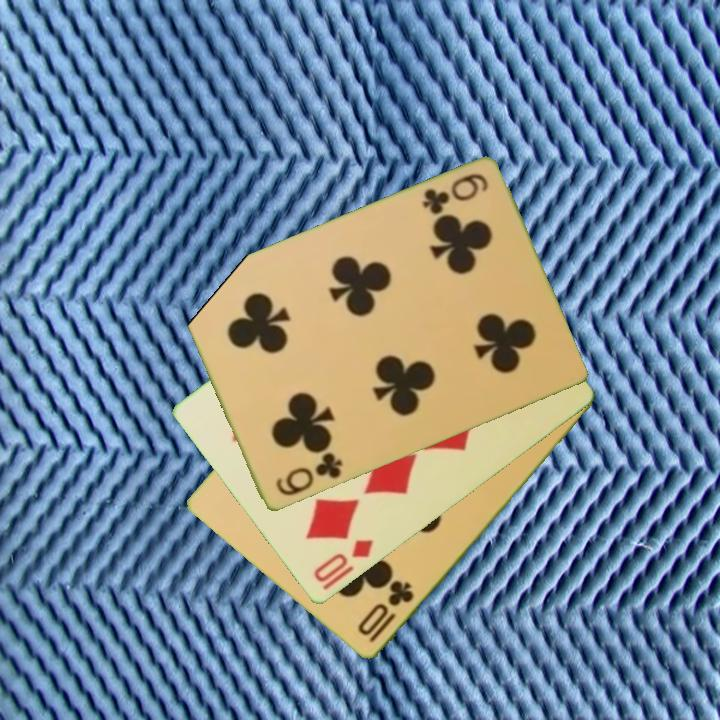10c: (354, 577, 417, 647)
10d: (309, 536, 376, 586)
6c: (272, 449, 346, 500), (418, 170, 491, 218)
